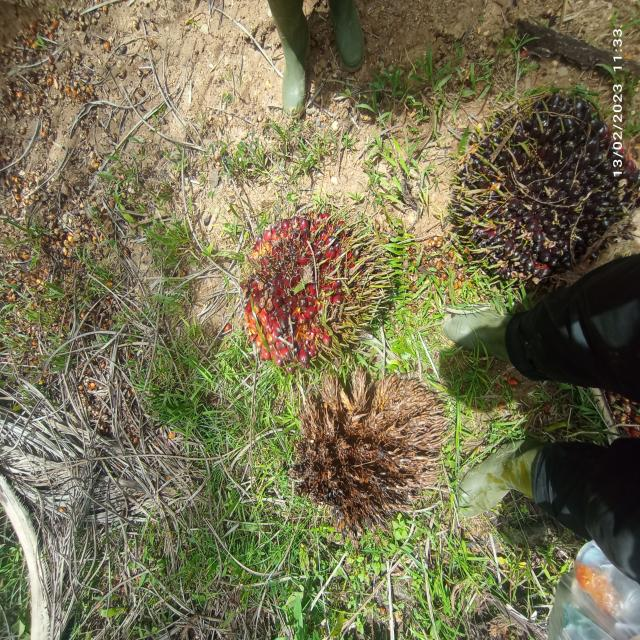fraksi 00: (442, 36, 640, 310)
fraksi 3: (215, 200, 400, 380)
